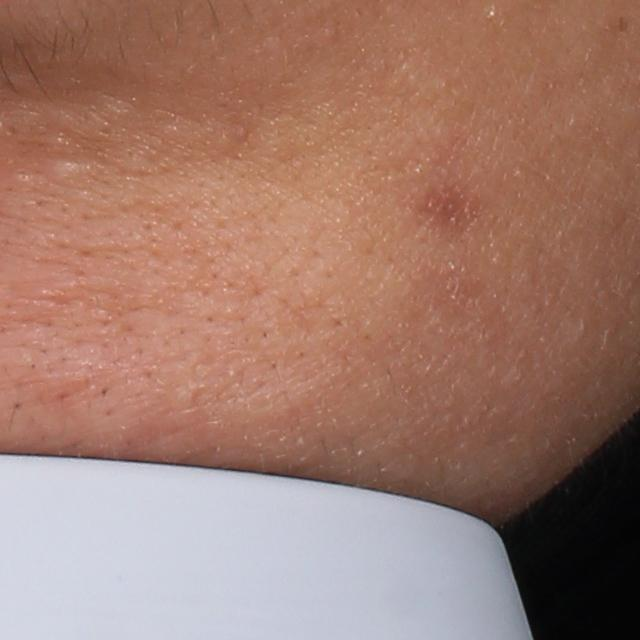hypertrophic_scar: (50, 158, 92, 183)
